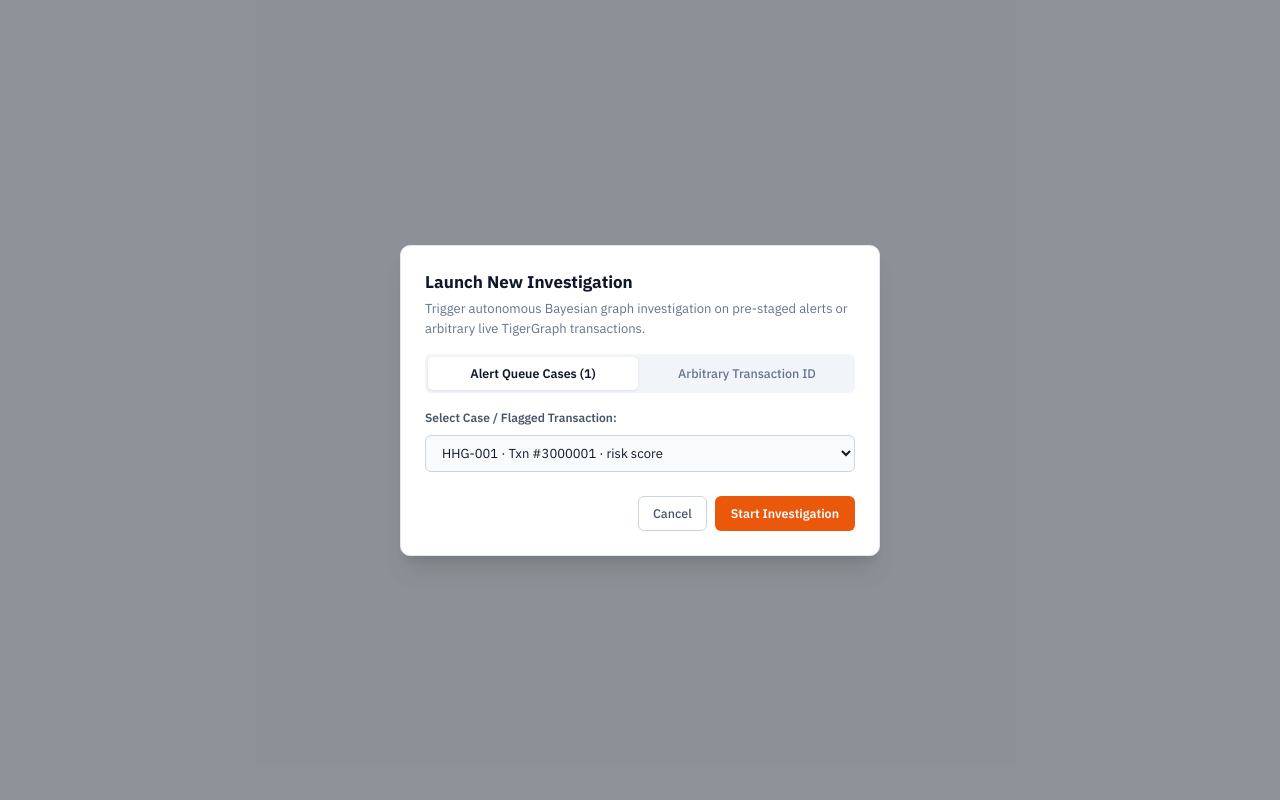
Test: P1.2 — Arbitrary Transaction Investigation Modal › displays validation error when transaction ID is empty
What coordinates should you click on to do the following:
click the button "Arbitrary Transaction ID"
I would click on:
 (747, 373)
Its box is x1=642 y1=357 x2=852 y2=390.
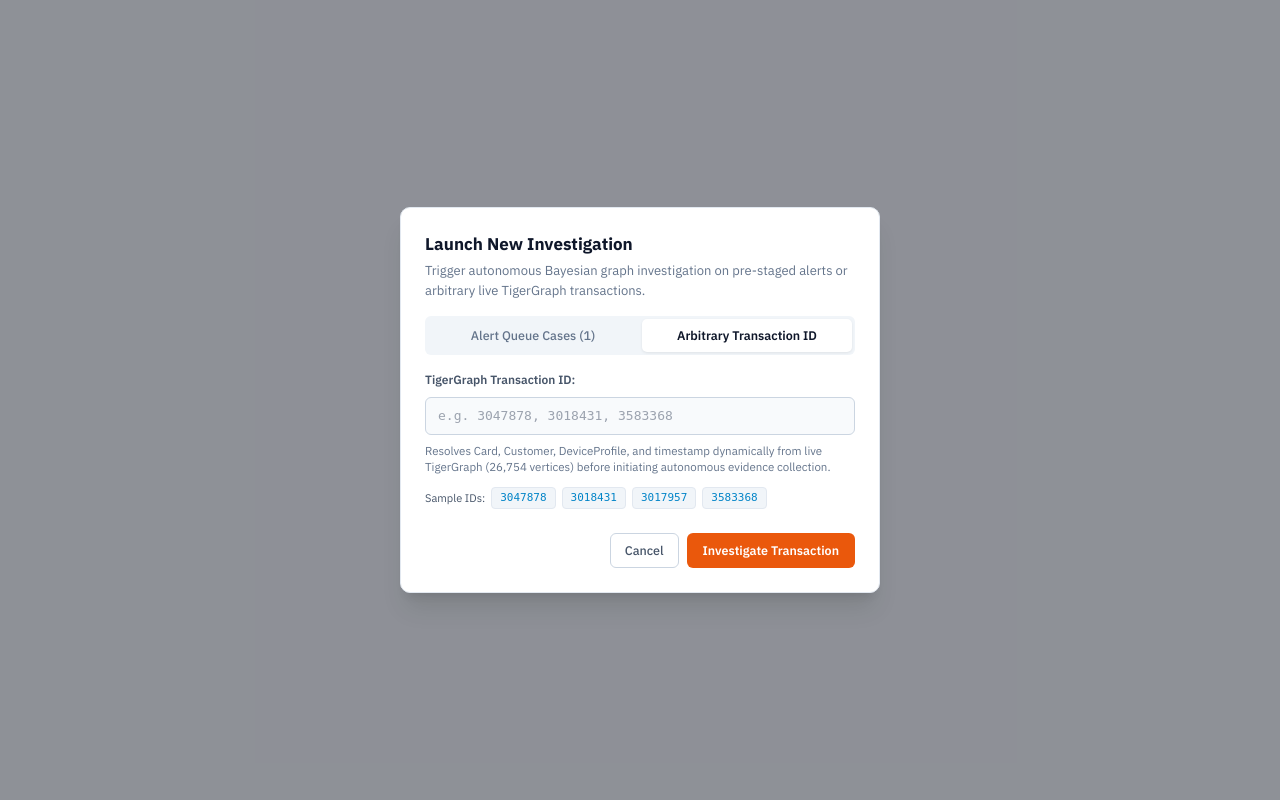
What coordinates should you click on to do the following:
click the button "Investigate Transaction"
I would click on:
 (771, 551)
Its box is x1=687 y1=533 x2=855 y2=568.
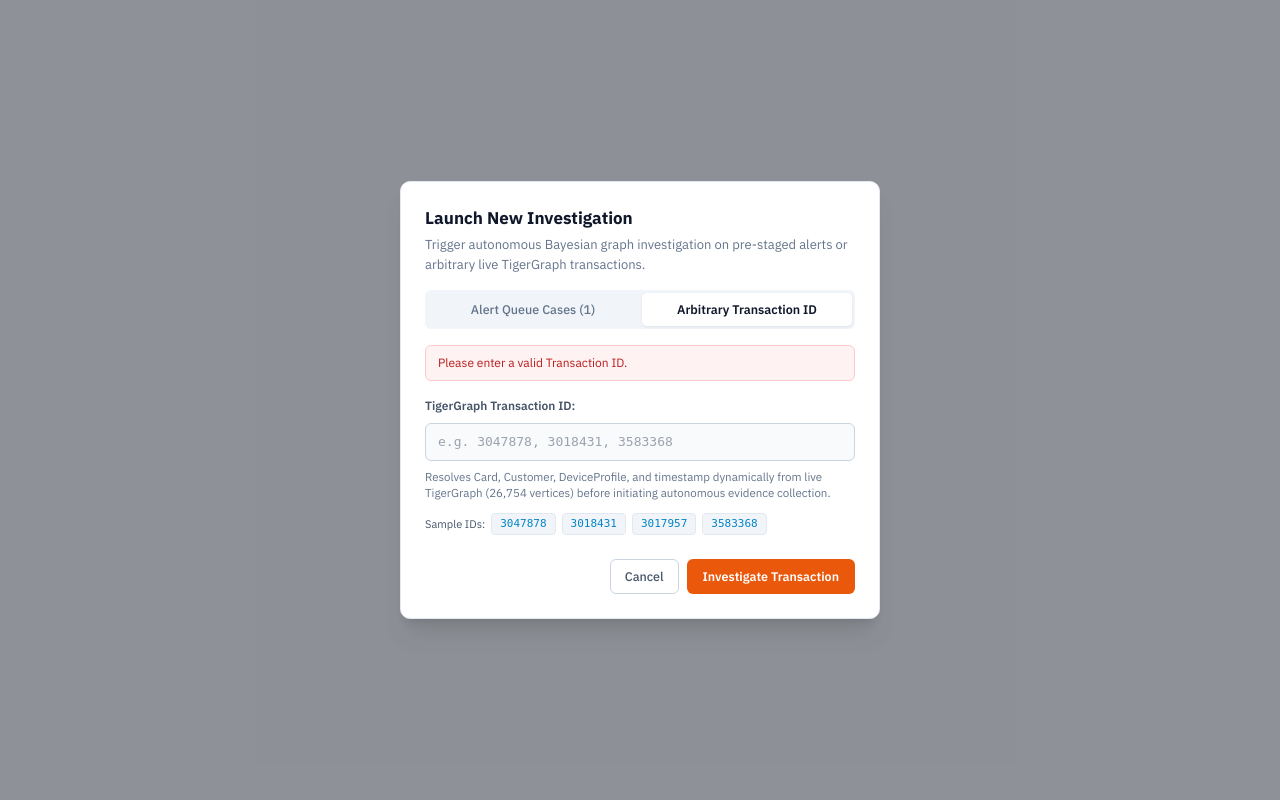
expect the text "Please enter a valid Transaction ID." is shown: met, box x1=425 y1=345 x2=855 y2=381
